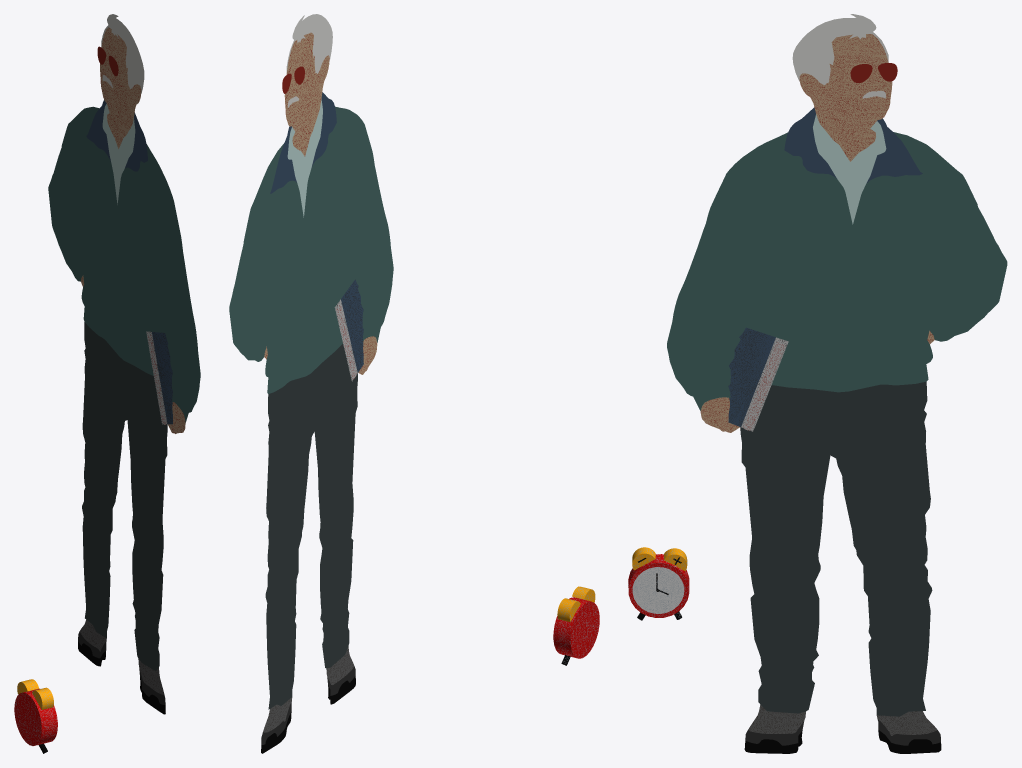
Rendered from clock.dae.
3 views of the same model, side by side, from view 1: azimuth 30°, elevation 25°; view 2: azimuth 150°, elevation 25°; view 3: azimuth 270°, elevation 25° (orthographic). The views are drawn at different scales.
Parts seen in each view (by area): view 1: Steve (×12), SketchUp (×2); view 2: Steve (×8), SketchUp; view 3: Steve (×14), SketchUp (×2).
Boxes of the visible parts, x1=… form: Steve (×12): x1=48, y1=14, x2=200, y2=694; SketchUp (×2): x1=14, y1=687, x2=57, y2=745; Steve (×8): x1=229, y1=14, x2=393, y2=709; SketchUp: x1=553, y1=597, x2=599, y2=658; Steve (×14): x1=667, y1=14, x2=1007, y2=753; SketchUp (×2): x1=628, y1=554, x2=689, y2=617.
Size of the model in its own units: 18.56 by 30.96 by 66.71.
